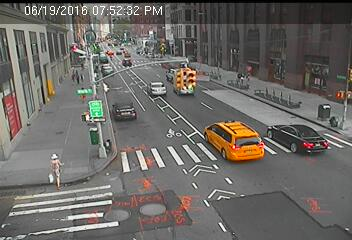neg: (152, 70, 178, 105)
pos: (38, 149, 69, 190), (68, 67, 83, 86)
